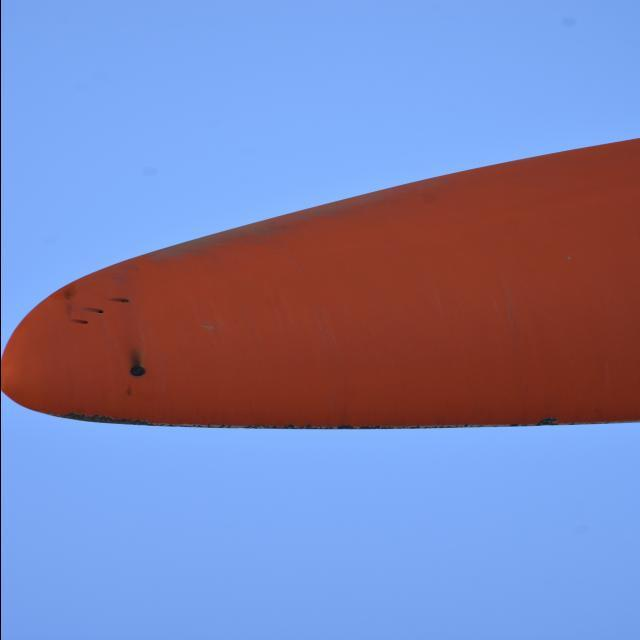Coating_defects: (122, 359, 152, 381)
EROSION: (57, 407, 624, 437)
